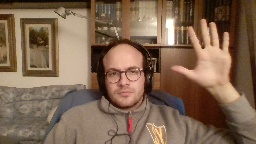Mano_aperta: (167, 16, 234, 91)
